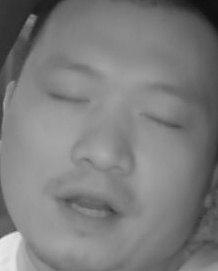blink: (139, 108, 181, 133), (49, 87, 90, 109)
mouth: (54, 186, 126, 231)
